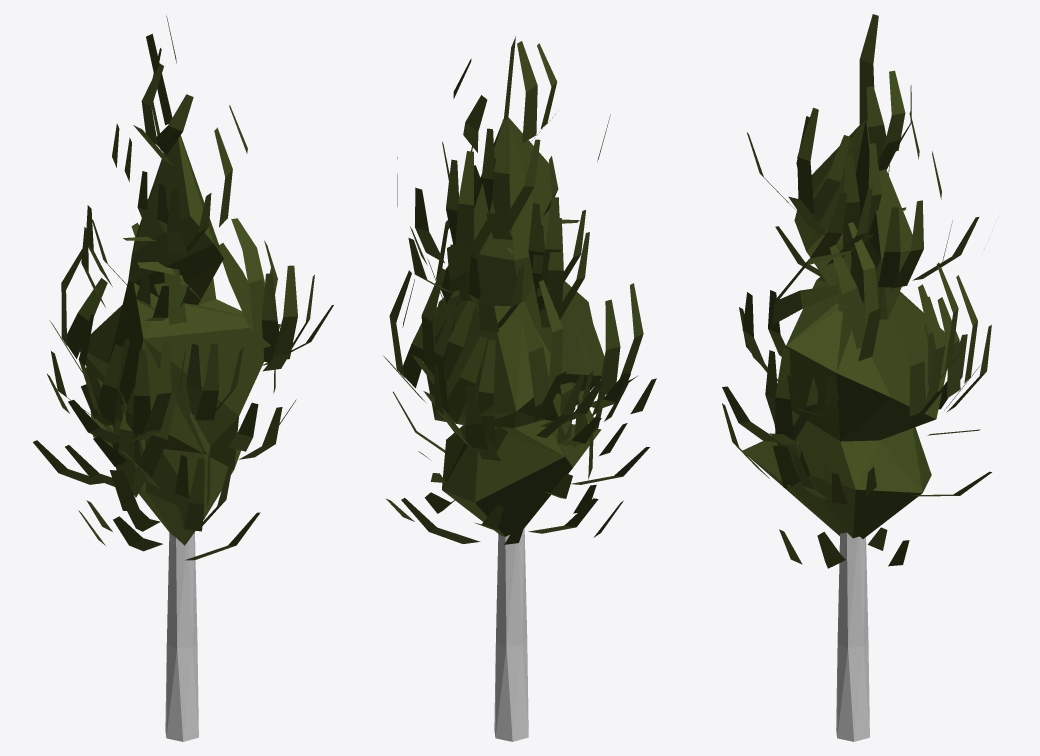
The model's file is tree-sequoia-sapling-a.gltf.
The picture shows the model from 3 angles, left to right: view 1: azimuth 30°, elevation 25°; view 2: azimuth 150°, elevation 25°; view 3: azimuth 270°, elevation 25°; orthographic projection. The views are drawn at different scales.
Parts seen in each view (by area): view 1: tree-sequoia-sapling-a; view 2: tree-sequoia-sapling-a; view 3: tree-sequoia-sapling-a.
Boxes of the visible parts, x1,y1,x2,y2 form: tree-sequoia-sapling-a: [33, 14, 333, 741]; tree-sequoia-sapling-a: [382, 36, 656, 741]; tree-sequoia-sapling-a: [722, 14, 991, 741].
Bounding box in the file's own units: 0.00885 × 0.0214 × 0.00876.
